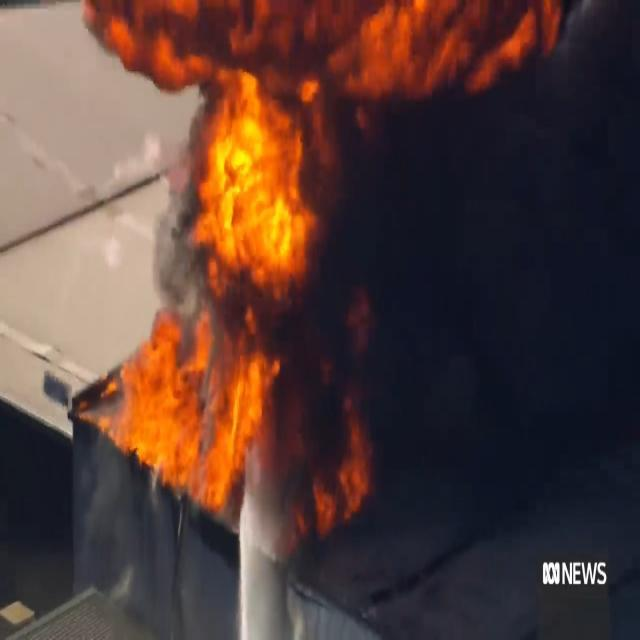fire: (197, 74, 329, 302), (120, 328, 286, 492), (334, 0, 538, 100)
